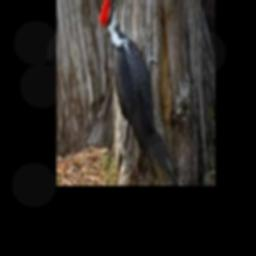Woodpecker: (98, 0, 175, 183)
